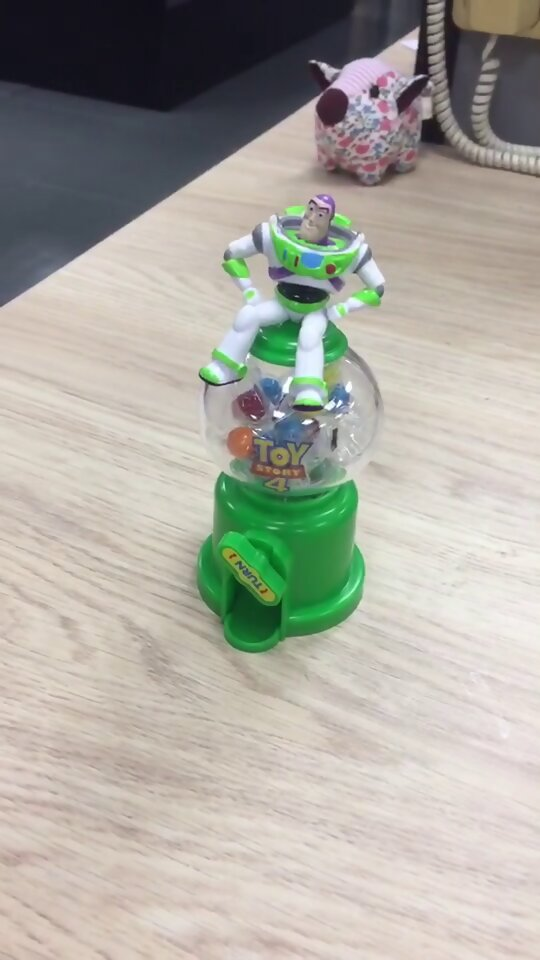buzz: (194, 189, 391, 655)
